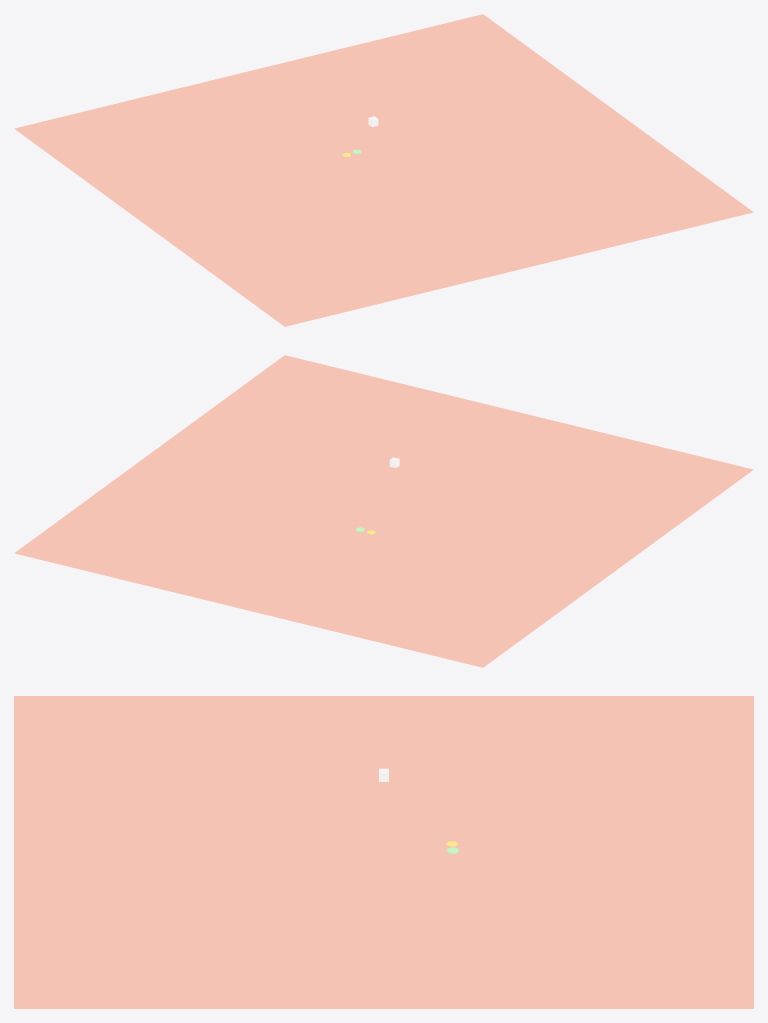
The model's file is forecast-chart.glb.
3 renders of one model, top to bottom at view 1: azimuth 30°, elevation 25°; view 2: azimuth 150°, elevation 25°; view 3: azimuth 270°, elevation 25°, orthographic. The views are drawn at different scales.
Parts seen in each view (by area): view 1: ReferencePlane; view 2: ReferencePlane; view 3: ReferencePlane.
Part boxes in pixels (<box>): ReferencePlane: <box>14,14,753,326</box>; ReferencePlane: <box>14,355,753,667</box>; ReferencePlane: <box>14,696,753,1008</box>.
Bounding box in the file's own units: 22 × 6.5 × 22.
